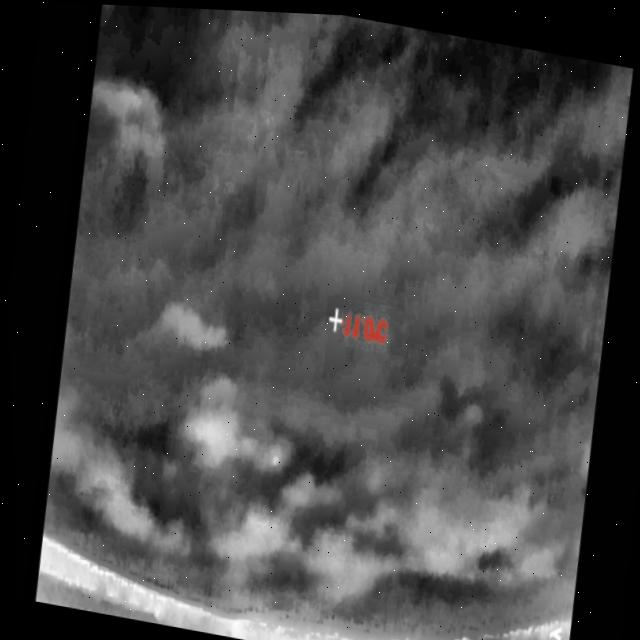drone: (266, 447, 278, 467)
